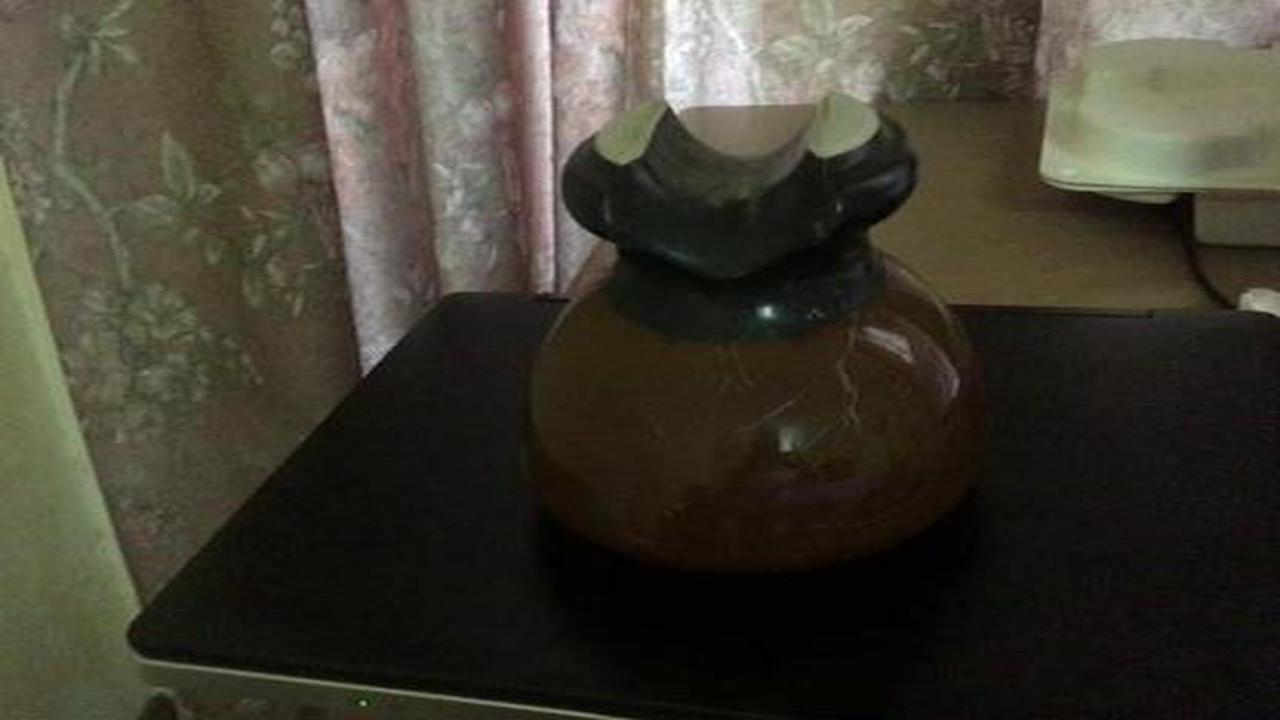insulator_pin: (484, 90, 1019, 598)
